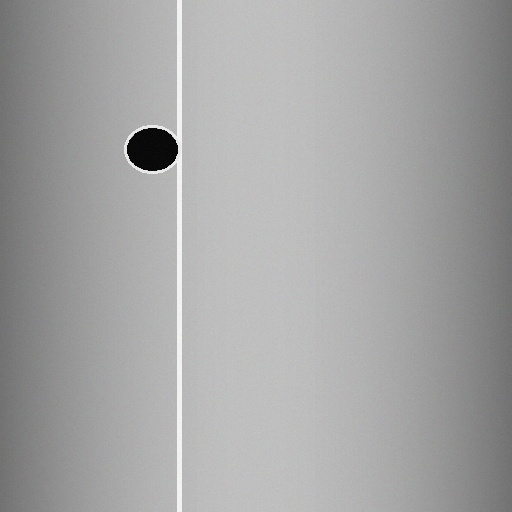hole: (123, 120, 181, 178)
